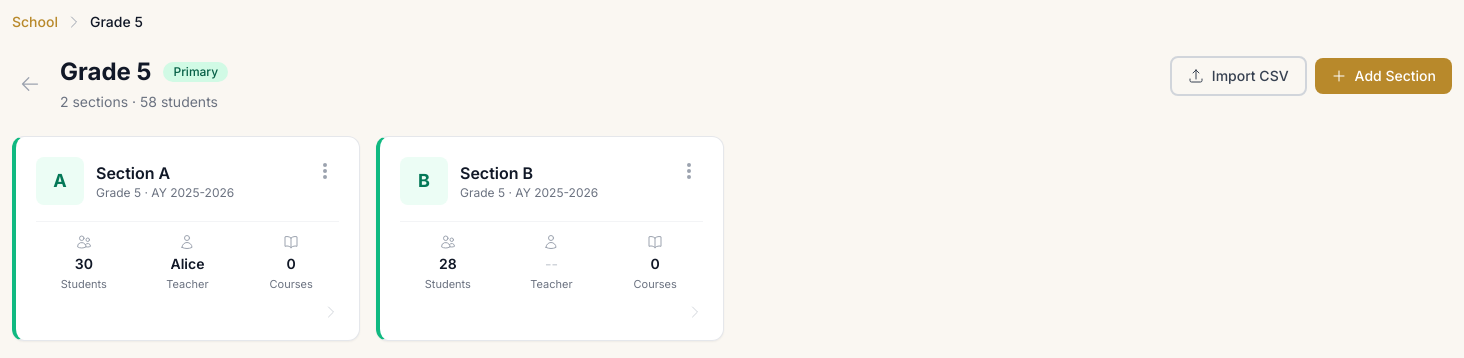
Test: GradeDetailPage › 7. Edit Section › Actions dropdown for Section A contains "Edit" option
Expected: the heading "Section A" is shown, [96,163,170,183]
Click the button named "actions for section a": (325, 171) [311,157,339,185]
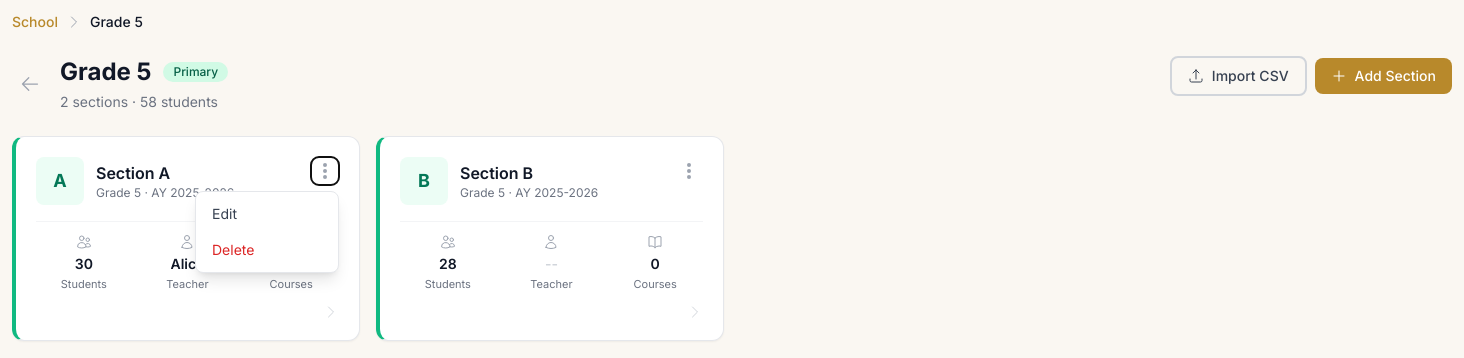
Expected: the button "Edit" is shown, [196,196,338,232]
